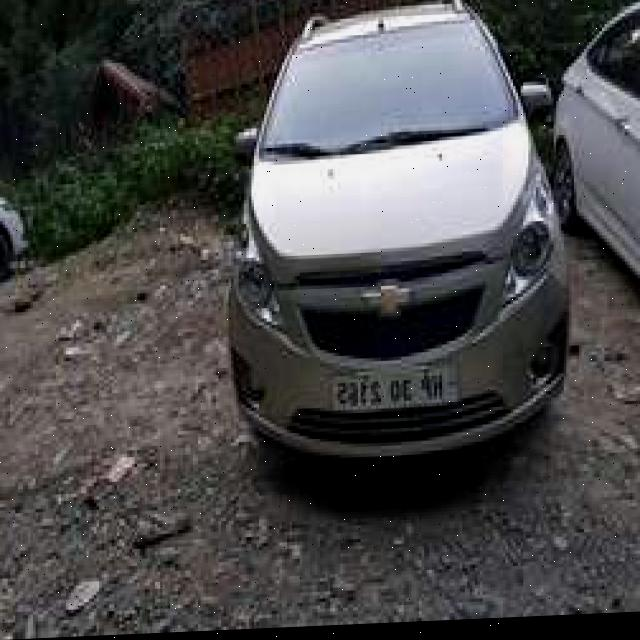plate: (328, 369, 457, 418)
